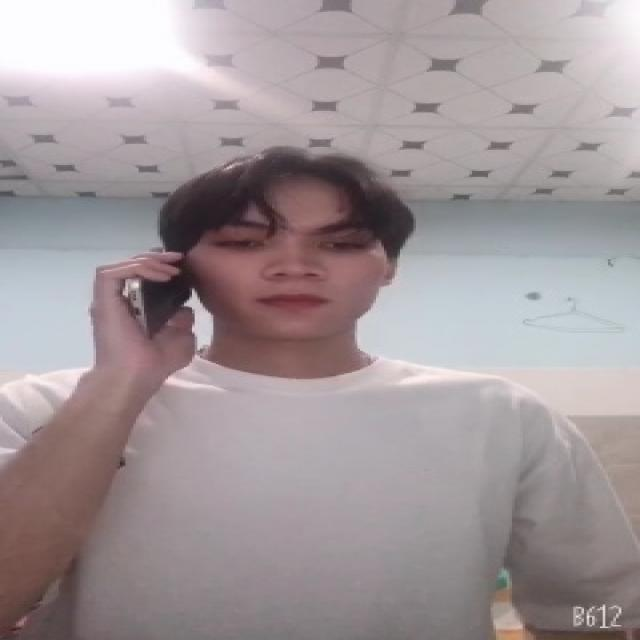Phone: (124, 247, 194, 339)
